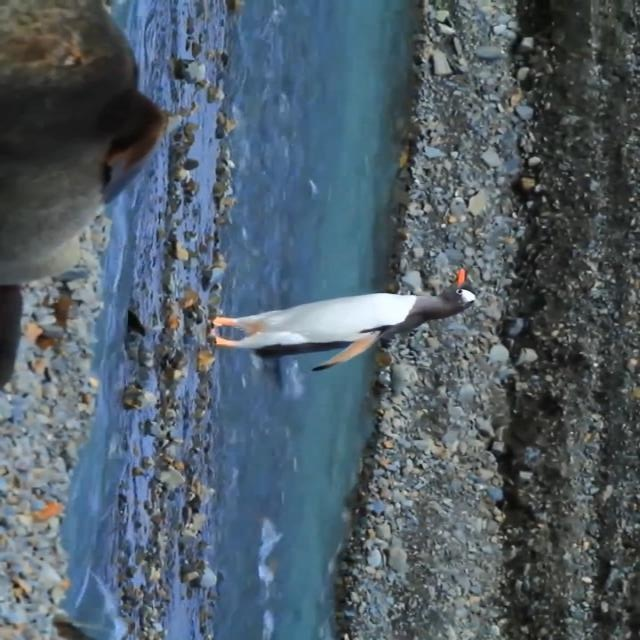penguin: (208, 268, 476, 373)
